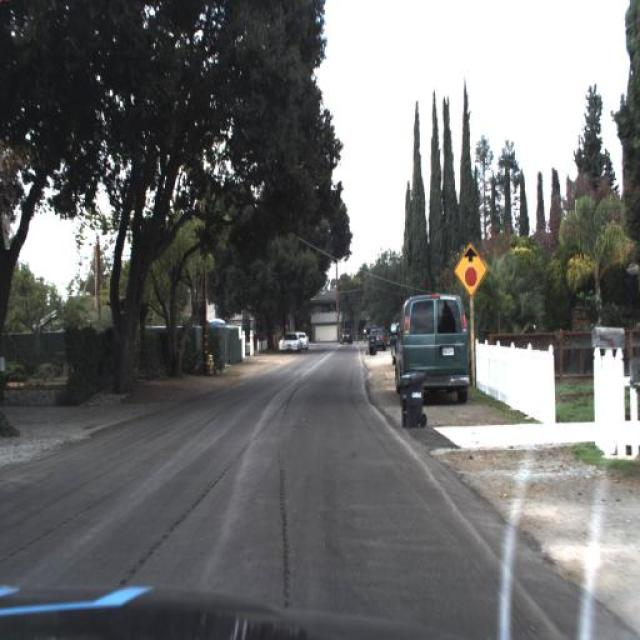car: (387, 288, 475, 401), (276, 329, 302, 352), (338, 325, 357, 349), (299, 328, 312, 352)
